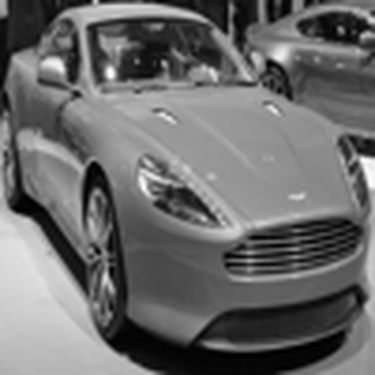car: (1, 6, 372, 356), (242, 4, 374, 150)
